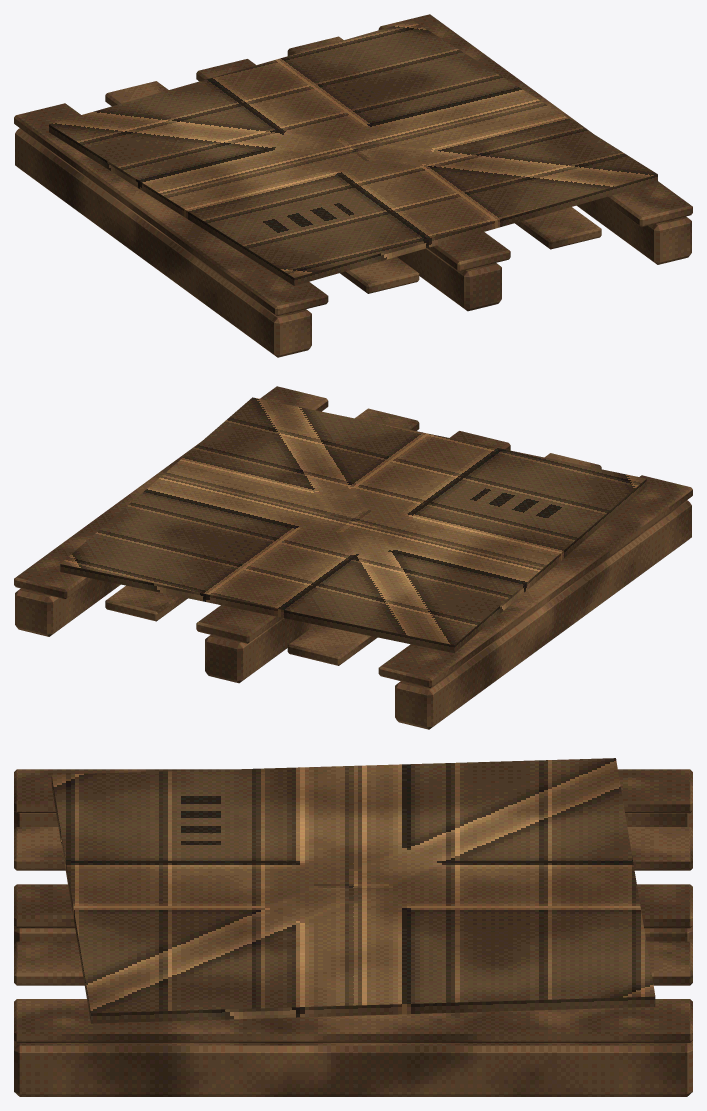
File: prop_pallet.glb
3 views of the same model, one above another, from view 1: azimuth 30°, elevation 25°; view 2: azimuth 150°, elevation 25°; view 3: azimuth 270°, elevation 25° (orthographic). The views are drawn at different scales.
Parts seen in each view (by area): view 1: prop_pallet_mesh; view 2: prop_pallet_mesh; view 3: prop_pallet_mesh.
Part boxes in pixels (box(x1,y1,x2,y2)): prop_pallet_mesh: box(14, 14, 692, 357); prop_pallet_mesh: box(14, 386, 692, 729); prop_pallet_mesh: box(14, 758, 692, 1096).
Size of the model in its own units: 1.1 by 0.16 by 1.2.
Materials: 2 (2 with a texture image).
